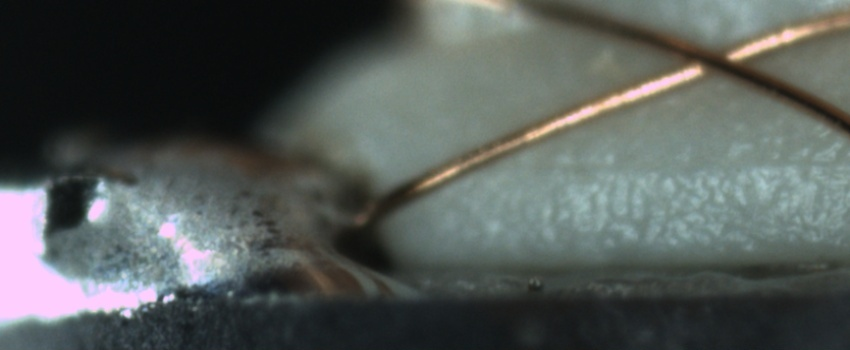CL: (649, 27, 776, 88)
DL: (530, 131, 850, 194)
